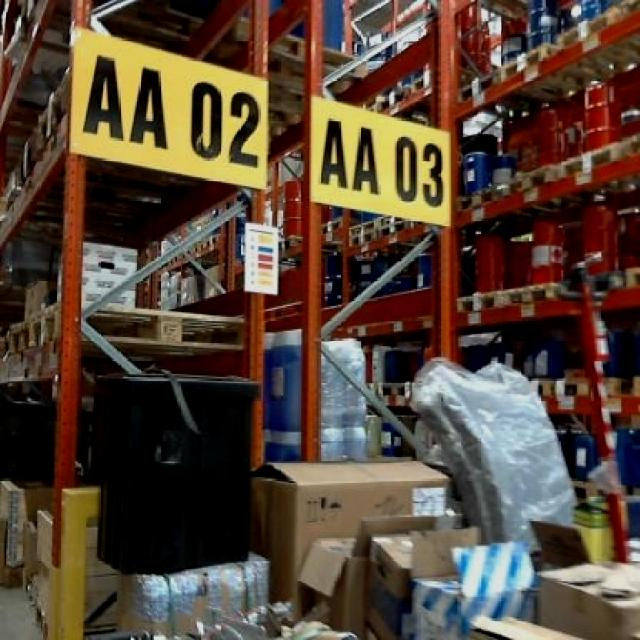pallets: (94, 372, 255, 571), (248, 458, 446, 598), (537, 562, 637, 637)
